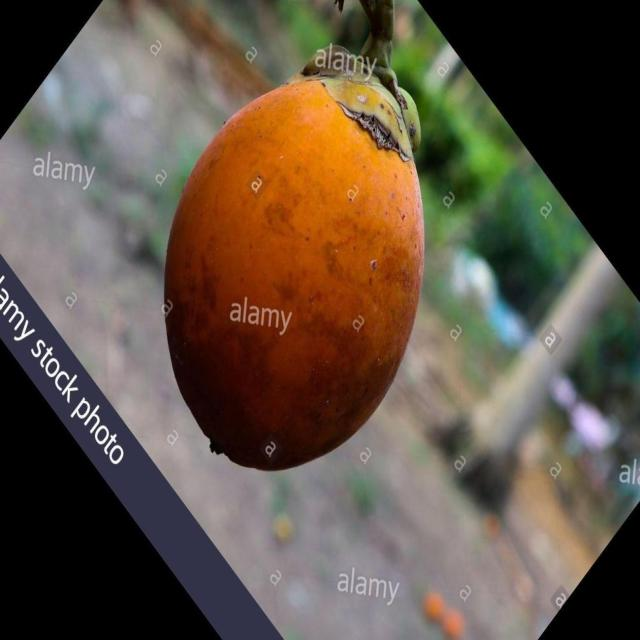good: (162, 48, 425, 474)
